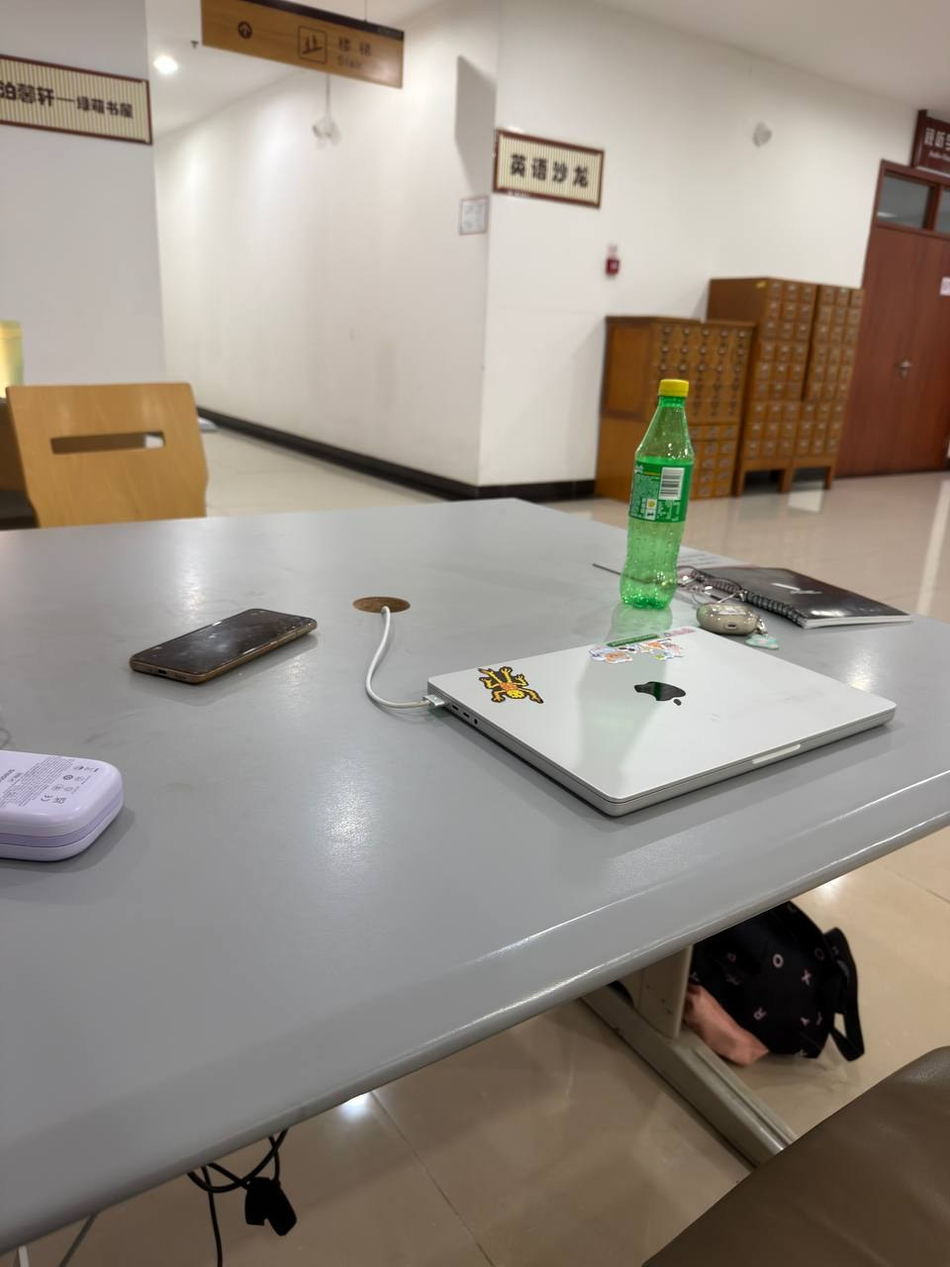cell phone: (130, 607, 318, 684)
laptop: (426, 624, 897, 818)
